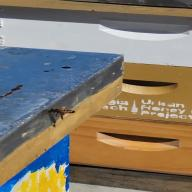Bee: (44, 105, 84, 120)
